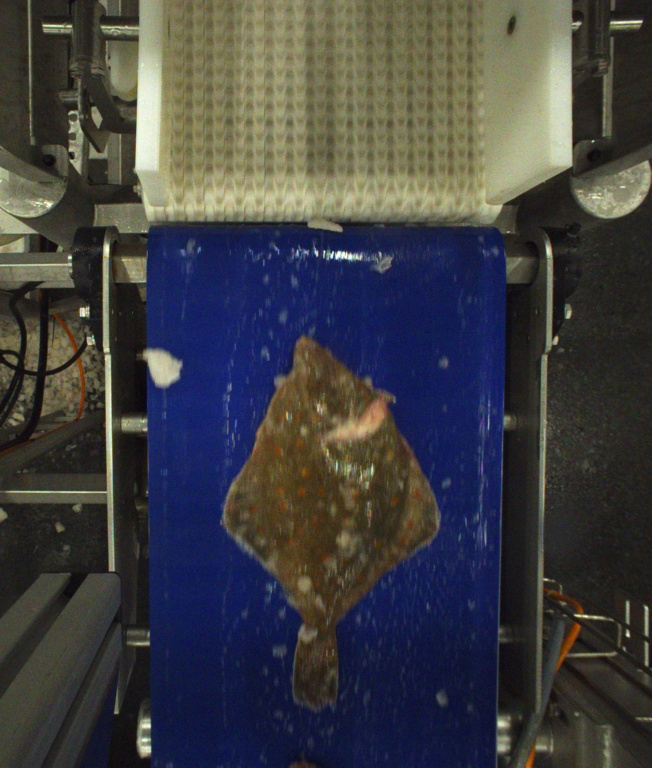PLE: (220, 336, 441, 711)
